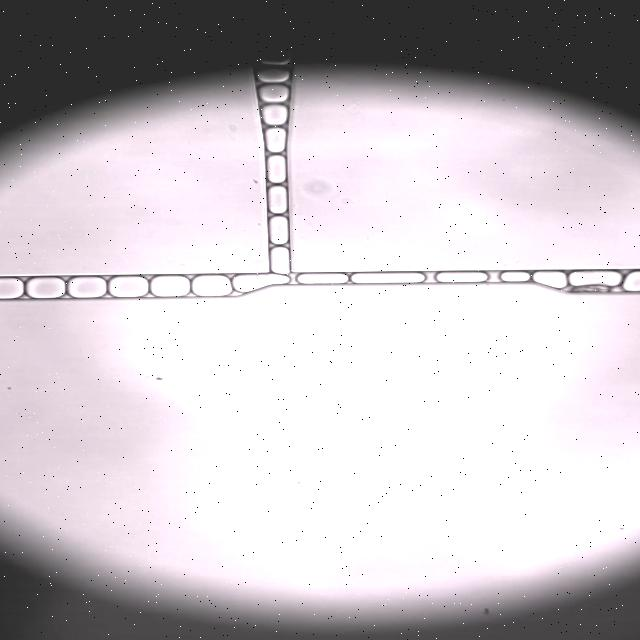L: (258, 85, 289, 104), (533, 272, 567, 289), (261, 105, 288, 126), (257, 66, 290, 83), (270, 247, 290, 274), (269, 186, 287, 214), (268, 155, 286, 183), (297, 274, 347, 284), (437, 272, 486, 282), (270, 217, 288, 244), (265, 128, 285, 152), (623, 271, 640, 291)
S: (233, 275, 289, 293), (569, 271, 620, 289), (26, 277, 64, 298), (68, 277, 106, 298), (109, 277, 148, 297), (151, 276, 190, 296), (193, 276, 232, 296), (352, 273, 424, 283), (0, 278, 24, 299), (500, 272, 528, 282)
